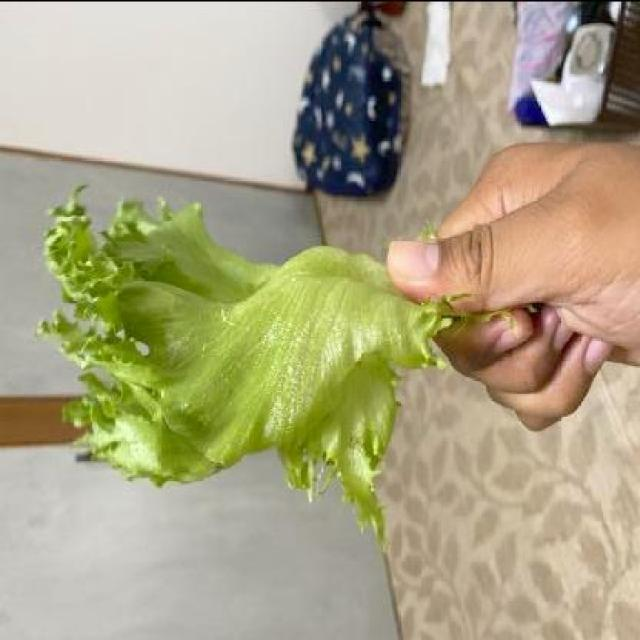Lettuce: (36, 178, 465, 550)
